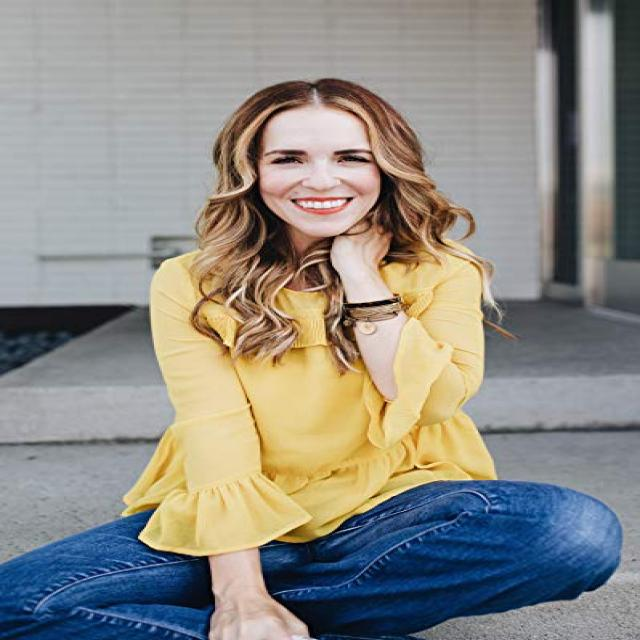human: (26, 71, 632, 640)
